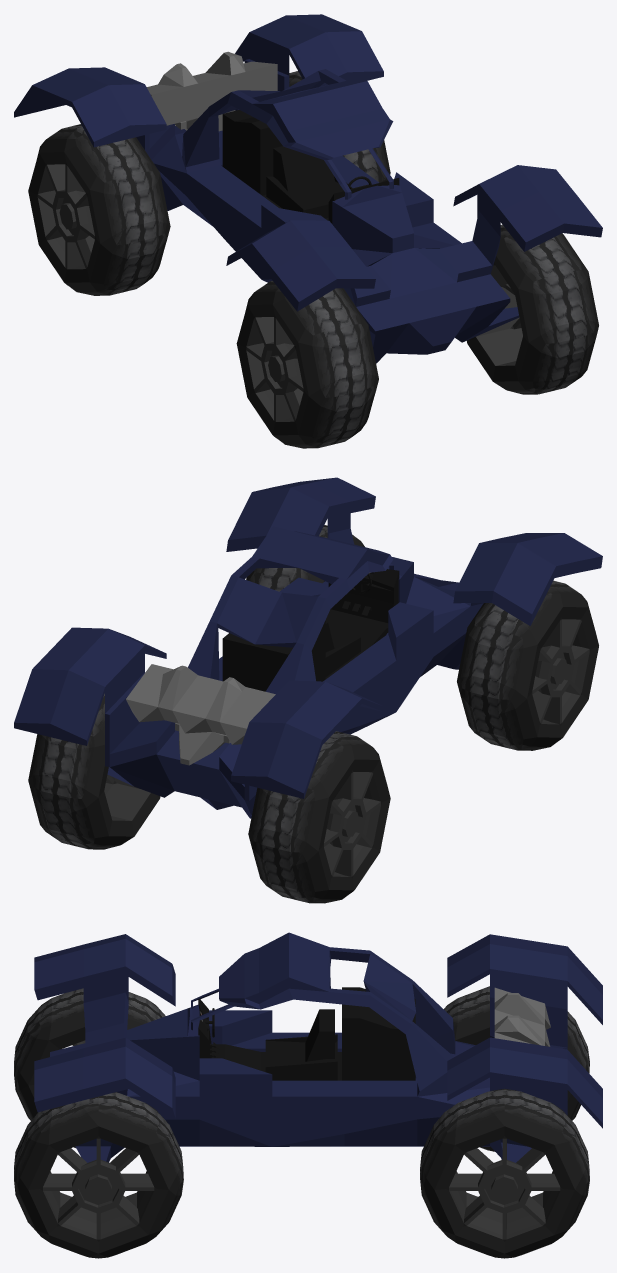
File: basic_buggy.glb
3 renders of one model, top to bottom at view 1: azimuth 30°, elevation 25°; view 2: azimuth 150°, elevation 25°; view 3: azimuth 270°, elevation 25°, orthographic. The views are drawn at different scales.
Visible parts, largest first — view 1: chassis, rear_right_wheel, front_right_wheel, front_left_wheel, cockpit, rear_left_wheel; view 2: chassis, front_right_wheel, rear_right_wheel, rear_left_wheel, cockpit, front_left_wheel; view 3: chassis, rear_left_wheel, front_left_wheel, cockpit, front_right_wheel, rear_right_wheel.
Boxes of the visible parts, <box> form: chassis: <box>14,14,602,363</box>; rear_right_wheel: <box>28,124,170,295</box>; front_right_wheel: <box>236,281,378,448</box>; front_left_wheel: <box>467,224,598,394</box>; cockpit: <box>222,110,399,223</box>; rear_left_wheel: <box>289,71,390,182</box>; chassis: <box>14,477,602,818</box>; front_right_wheel: <box>457,580,598,750</box>; rear_right_wheel: <box>248,731,390,903</box>; rear_left_wheel: <box>28,693,160,849</box>; cockpit: <box>222,569,399,691</box>; front_left_wheel: <box>246,525,364,591</box>; chassis: <box>34,932,602,1162</box>; rear_left_wheel: <box>420,1088,589,1258</box>; front_left_wheel: <box>14,1092,183,1258</box>; cockpit: <box>198,987,415,1080</box>; front_right_wheel: <box>14,988,165,1147</box>; rear_right_wheel: <box>444,986,589,1151</box>.
Size of the model in its own units: 2.38 by 1.87 by 4.1.
Materials: 7 (1 with a texture image).
